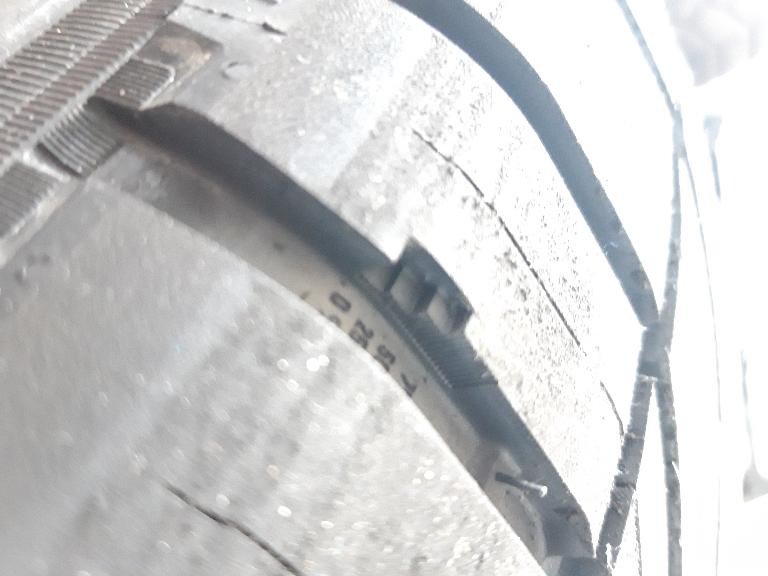temoin:75: (346, 223, 499, 374)
